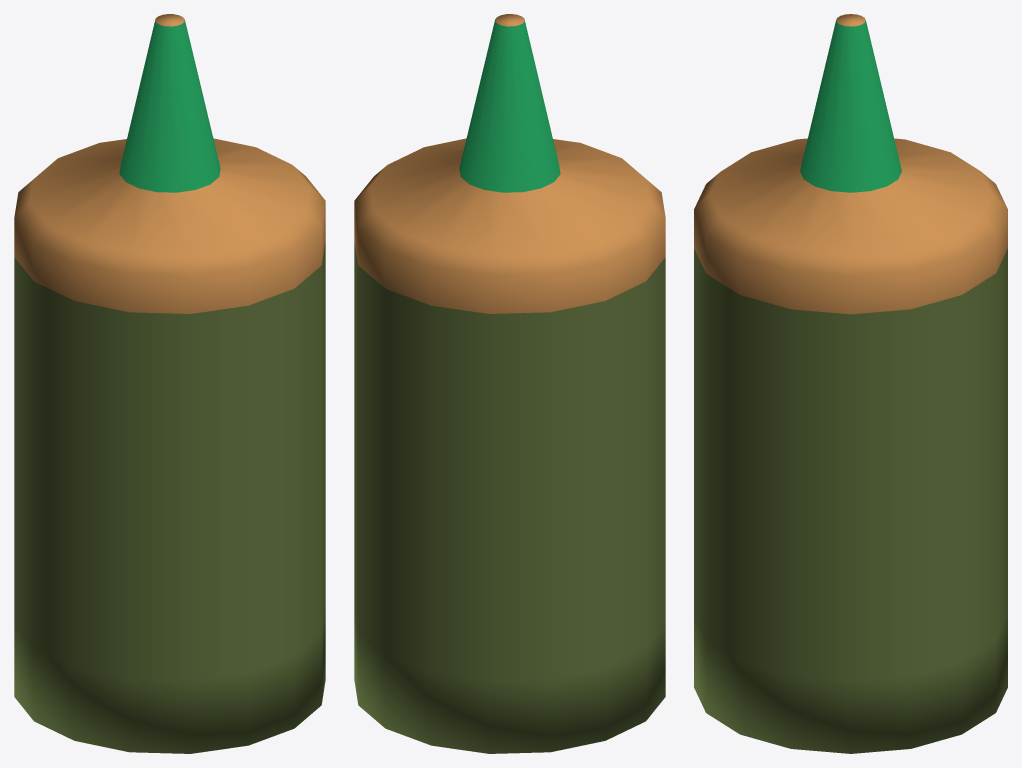
The model's file is LimitedUseBottle.fbx.
The picture shows the model from 3 angles, left to right: view 1: azimuth 30°, elevation 25°; view 2: azimuth 150°, elevation 25°; view 3: azimuth 270°, elevation 25°; orthographic projection.
Visible parts, largest first — view 1: LimitedUseBottle; view 2: LimitedUseBottle; view 3: LimitedUseBottle.
Part boxes in pixels (x1,y1,x2,y2): LimitedUseBottle: (14, 14, 325, 753); LimitedUseBottle: (354, 14, 665, 753); LimitedUseBottle: (694, 14, 1007, 753).
Size of the model in its own units: 0.182 by 0.4271 by 0.182.
